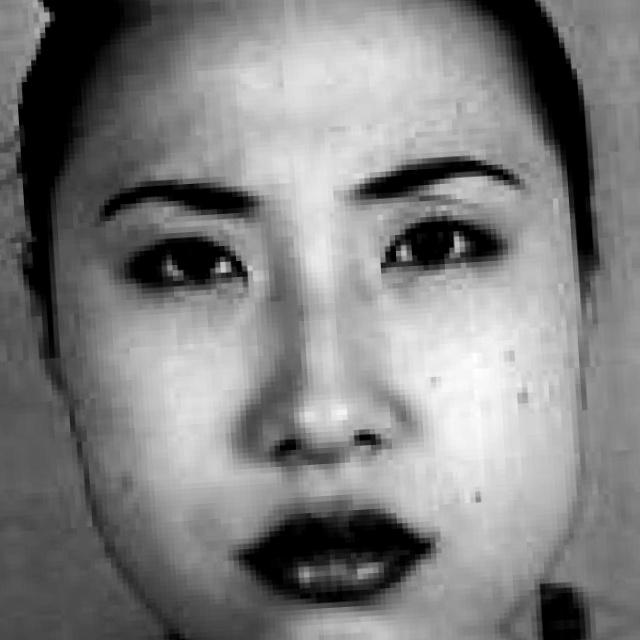disgust: (63, 70, 597, 635)
